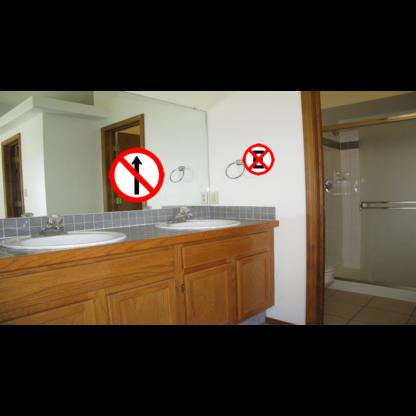R-3: (109, 147, 164, 202)
R-6c: (243, 144, 274, 176)
